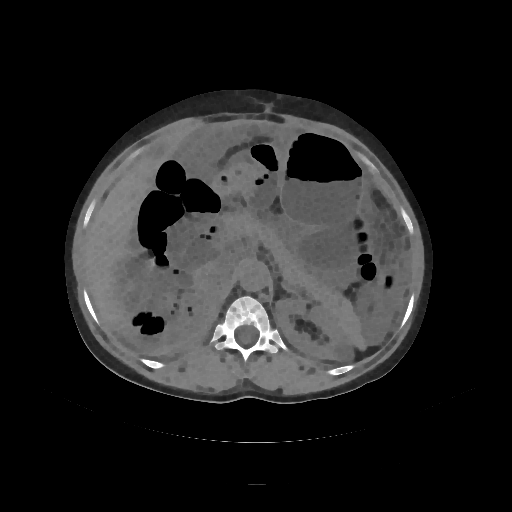Lesion: (331, 338, 357, 364)
